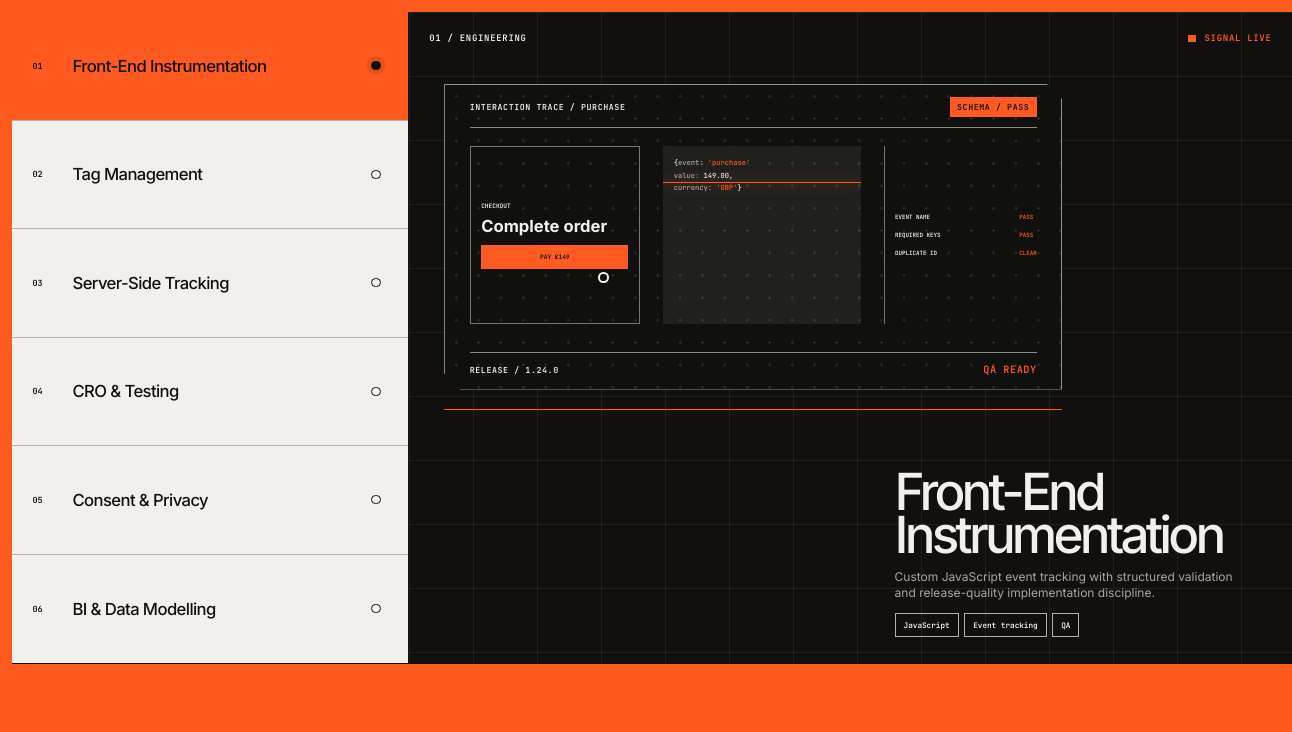
Test: uses the capability selector to update the readable technical canvas
Expected: the panel shows "Custom JavaScript event tracking", [895,569,1233,600]
Expected: the panel shows "QA READY", [983,363,1037,376]
Click the tab "04 CRO & Testing" at {"x": 126, "y": 391}, box [12,338,408,446]
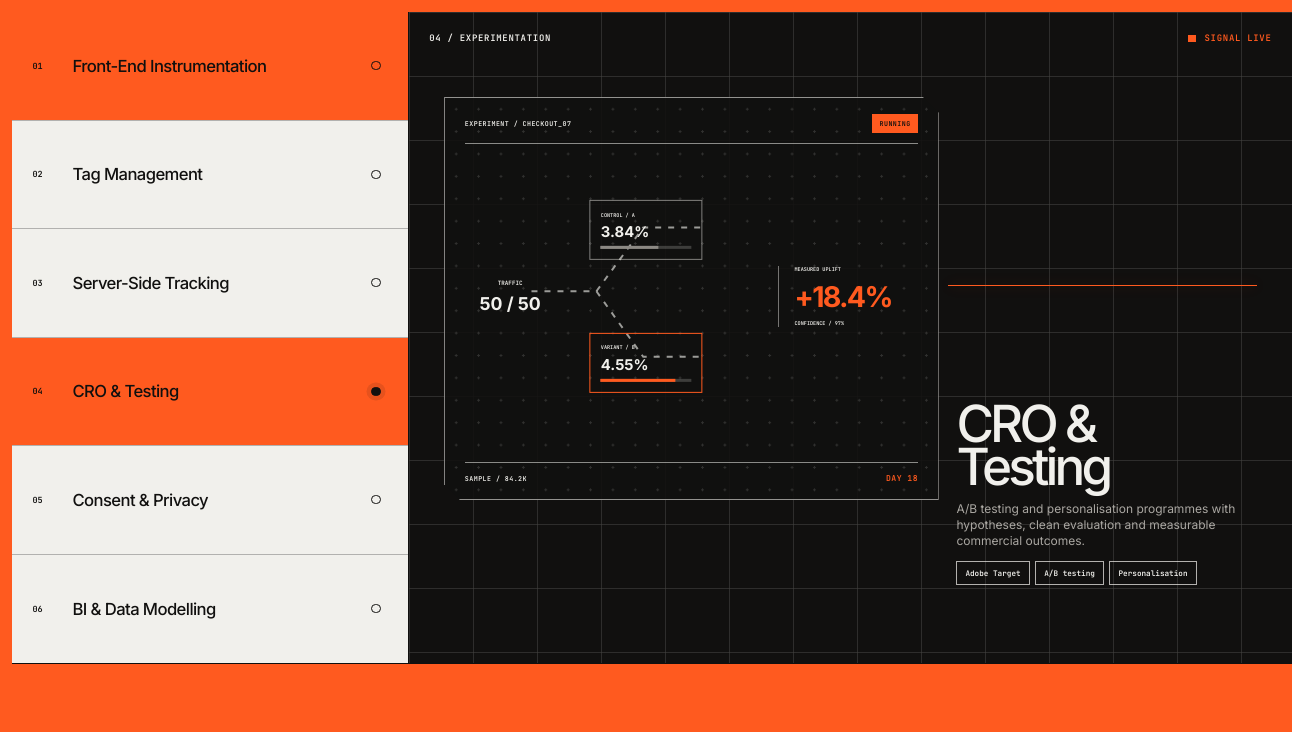
Result: the panel that starts with "EXPERIMENT / CHECKOUT_07" shows "Experimentation" at [460,32,551,44]
Result: the panel that starts with "EXPERIMENT / CHECKOUT_07" shows "A/B testing and personalisation programmes" at [956,501,1235,548]
Result: the panel that starts with "EXPERIMENT / CHECKOUT_07" shows "Adobe Target" at [965,568,1021,578]
